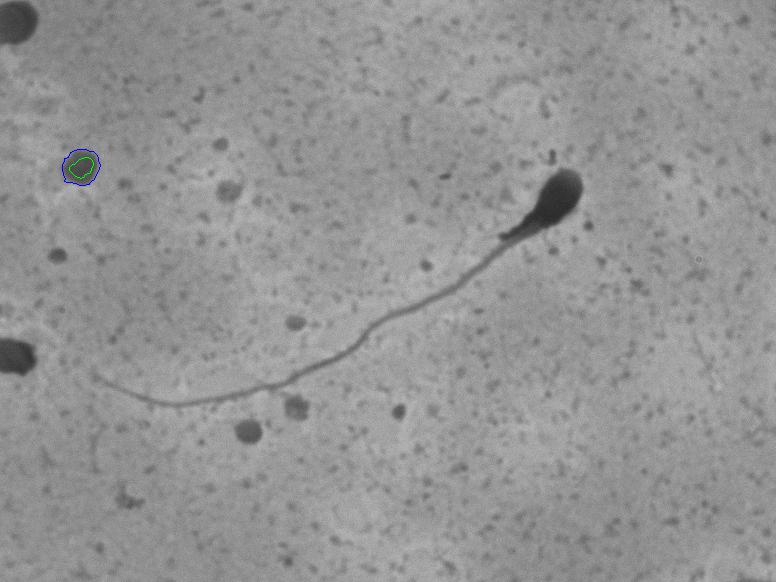Abnormal: (78, 145, 614, 423)
